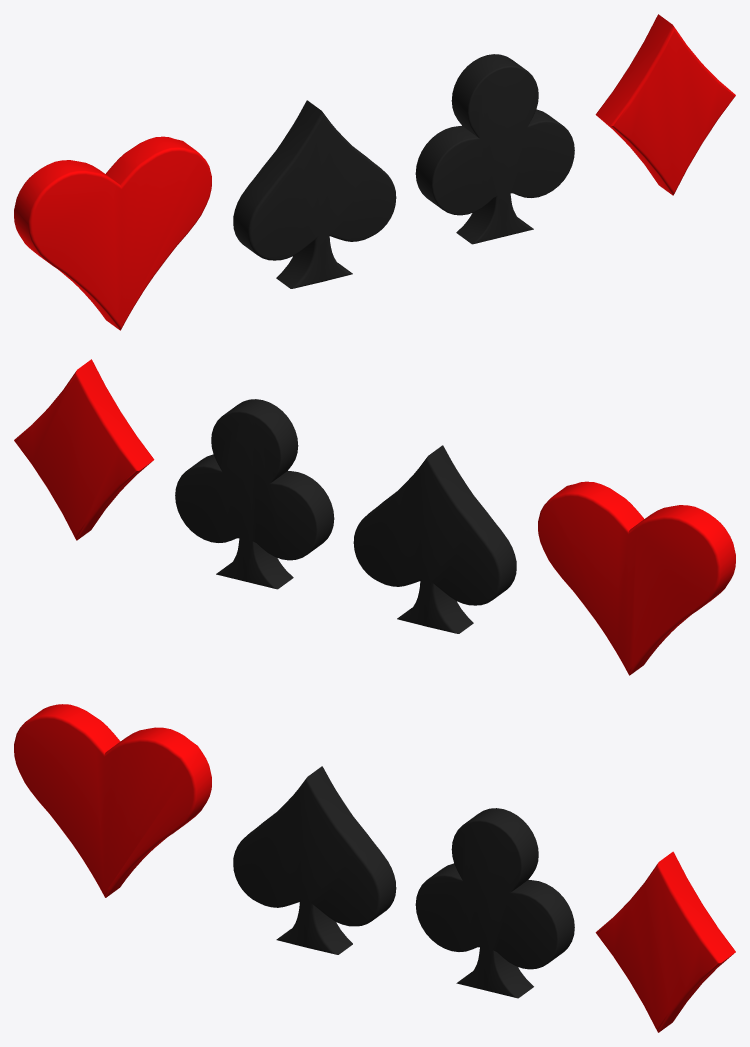
Rendered from card symbols.fbx.
The picture shows the model from 3 angles, top to bottom: view 1: azimuth 30°, elevation 25°; view 2: azimuth 150°, elevation 25°; view 3: azimuth 330°, elevation 25°; orthographic projection.
Visible parts, largest first — view 1: Hearts, Clubs, Spades, Diamonds; view 2: Hearts, Clubs, Spades, Diamonds; view 3: Hearts, Clubs, Spades, Diamonds.
Boxes of the visible parts, bbox=[...] form: Hearts: bbox=[14, 136, 211, 330]; Clubs: bbox=[415, 54, 574, 244]; Spades: bbox=[233, 100, 396, 288]; Diamonds: bbox=[595, 14, 735, 195]; Hearts: bbox=[538, 481, 735, 675]; Clubs: bbox=[175, 399, 334, 589]; Spades: bbox=[353, 445, 516, 633]; Diamonds: bbox=[14, 359, 154, 540]; Hearts: bbox=[14, 704, 211, 897]; Clubs: bbox=[415, 808, 574, 998]; Spades: bbox=[233, 766, 396, 954]; Diamonds: bbox=[595, 851, 735, 1032].
Size of the model in its own units: 2218 by 514 by 93.86.
4 materials, 4 textured.
